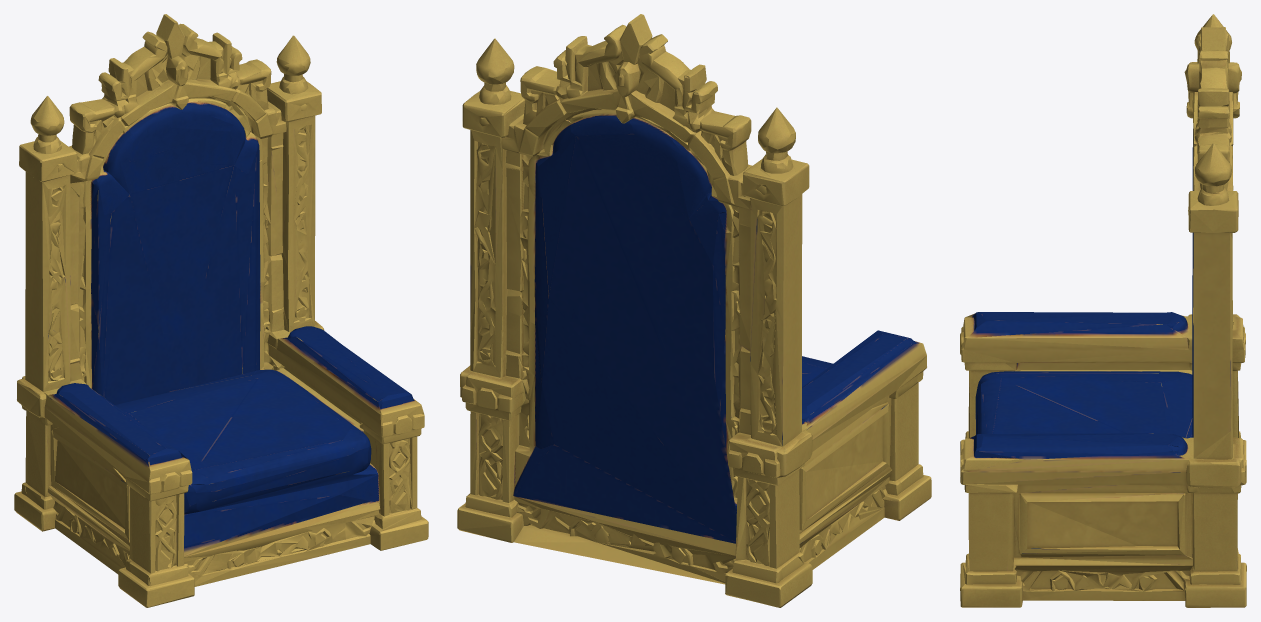
File: throne_blue.glb
3 views of the same model, side by side, from view 1: azimuth 30°, elevation 25°; view 2: azimuth 150°, elevation 25°; view 3: azimuth 270°, elevation 25° (orthographic). The views are drawn at different scales.
Bounding box in the file's own units: 1.21 × 1.9 × 0.9745.
1 material, 1 textured.
